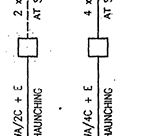Cable Termination Box: (83, 33, 117, 66), (14, 32, 45, 64)
